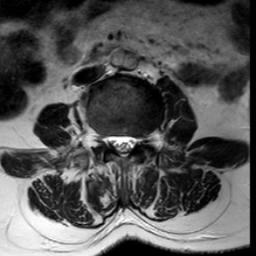CCS_normal: (118, 123, 127, 166)
LFS_stenosis: (136, 124, 146, 152)
LLS_normal: (127, 123, 136, 159)
RFS_normal: (98, 121, 108, 156)
RLS_normal: (108, 125, 118, 157)
